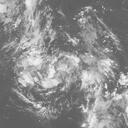cyclone: (32, 43, 97, 99)
